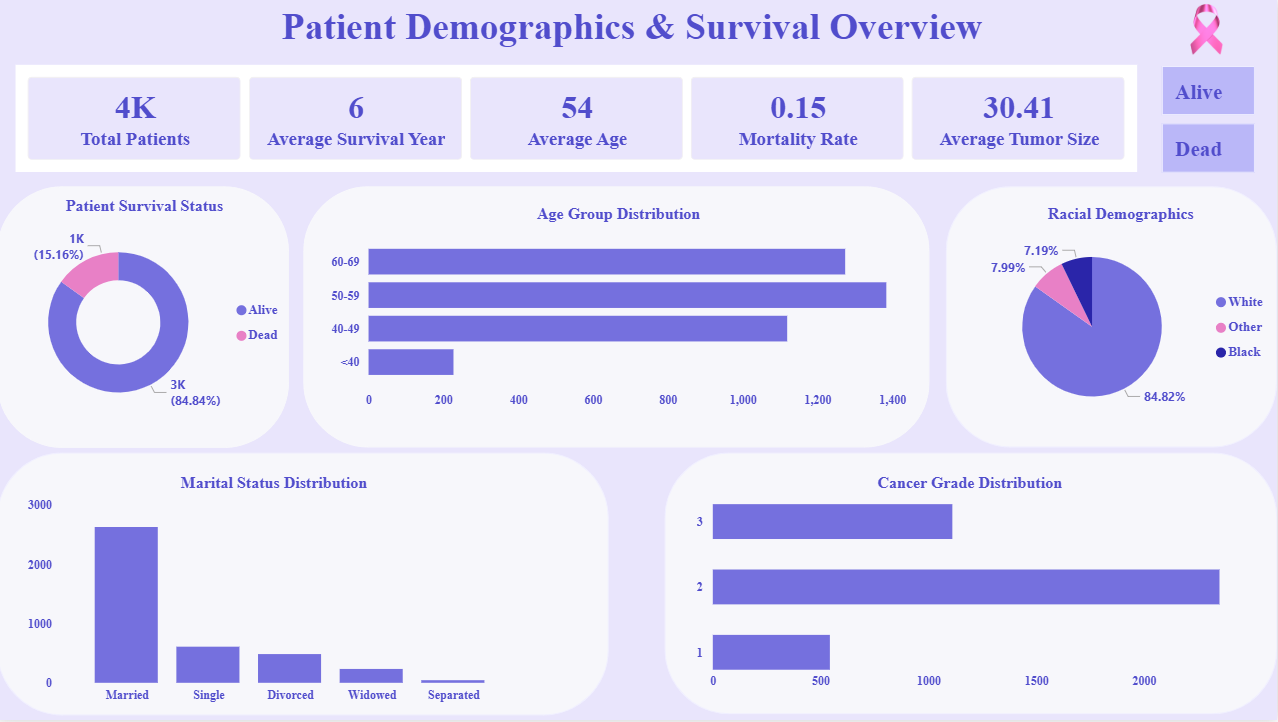

The dashboard page shown, as its layout file describes it:
{"tool":"powerbi","page":{"name":"Page 1","canvas":[1280,720],"ordinal":0},"visuals":[{"type":"shape","box":[660.8,453,613.2,262.6],"z":0},{"type":"shape","box":[306.2,186.2,626.2,261.2],"z":1000},{"type":"shape","box":[948.8,186.2,331.2,261.2],"z":2000},{"type":"shape","box":[0,185.8,292,261.8],"z":3000},{"type":"shape","box":[5,457.5,620,262.5],"z":4000},{"type":"cardVisual","fields":{"Data":["Breast_Cancer.Total Patients","Breast_Cancer.Average Survival Year","Breast_Cancer.Average Age","Breast_Cancer.Mortality Rate","Breast_Cancer.Average Tumor Size"]},"box":[13.3,60.3,1134.1,117],"z":5000},{"type":"textbox","box":[124.3,0,1023.1,71.2],"z":6000},{"type":"clusteredBarChart","title":"Patient Age Group Distribution","fields":{"Y":["Breast_Cancer.Total Patients"],"Category":["Breast_Cancer.Age Group"]},"box":[328.9,204.9,585.8,210.6],"z":7000},{"type":"pieChart","title":"Racial Demographics","fields":{"Category":["Breast_Cancer.Race"],"Y":["Breast_Cancer.Total Patients"]},"box":[967.5,205,312.5,226.2],"z":8000},{"type":"donutChart","title":"Patient Survival Status","fields":{"Category":["Breast_Cancer.Status"],"Y":["Breast_Cancer.Total Patients"]},"box":[0,196.7,295,235],"z":9000},{"type":"clusteredColumnChart","fields":{"Category":["Breast_Cancer.Marital Status"],"Y":["Breast_Cancer.Total Patients"]},"box":[26.2,473.8,501.2,236.2],"z":10000},{"type":"advancedSlicerVisual","fields":{"Values":["Breast_Cancer.Status"]},"box":[1159.4,61.5,103.8,117],"z":11000},{"type":"clusteredBarChart","title":"Cancer Grade Distribution","fields":{"Category":["Breast_Cancer.Grade"],"Y":["Breast_Cancer.Total Patients"]},"box":[695.4,473.2,555.5,222.2],"z":12000},{"type":"image","box":[1159.4,0,98.9,60.3],"z":13000}]}

Visuals, with their boxes in screenshot pixels (x1, y1, x2, y2), scaled from the page's 1280x720 canvas onto the 1278x722 screenshot:
shape: bbox=[660, 454, 1272, 718]
shape: bbox=[306, 187, 931, 449]
shape: bbox=[947, 187, 1277, 449]
shape: bbox=[0, 186, 292, 449]
shape: bbox=[5, 459, 624, 721]
cardVisual - Breast_Cancer.Total Patients x Breast_Cancer.Average Survival Year: bbox=[13, 60, 1146, 178]
textbox: bbox=[124, 0, 1146, 71]
"Patient Age Group Distribution" clusteredBarChart: bbox=[328, 205, 913, 417]
"Racial Demographics" pieChart: bbox=[966, 206, 1277, 432]
"Patient Survival Status" donutChart: bbox=[0, 197, 295, 433]
clusteredColumnChart - Breast_Cancer.Marital Status x Breast_Cancer.Total Patients: bbox=[26, 475, 527, 712]
advancedSlicerVisual - Breast_Cancer.Status: bbox=[1158, 62, 1261, 179]
"Cancer Grade Distribution" clusteredBarChart: bbox=[694, 475, 1249, 697]
image: bbox=[1158, 0, 1256, 60]
